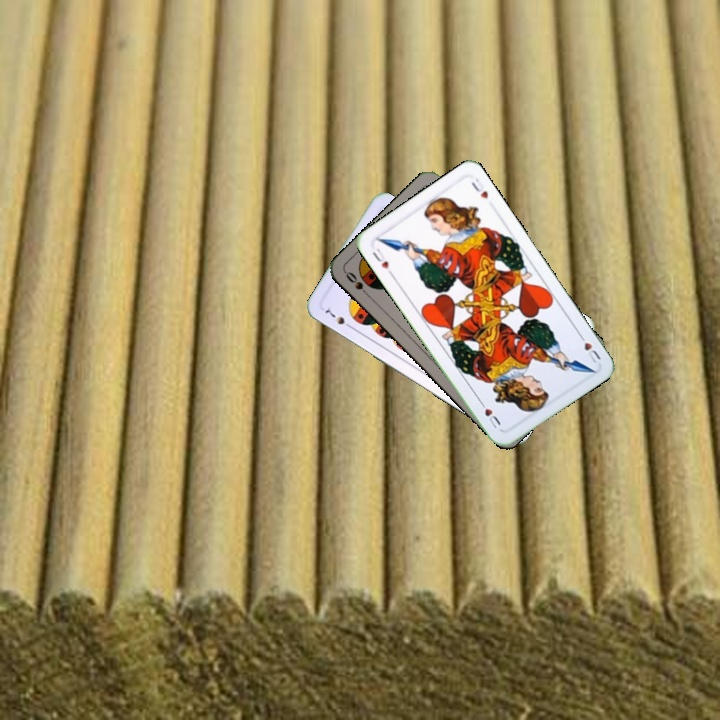HU: (575, 329, 603, 366), (368, 244, 395, 278)
S7: (319, 303, 356, 332)
SO: (341, 267, 373, 301)
